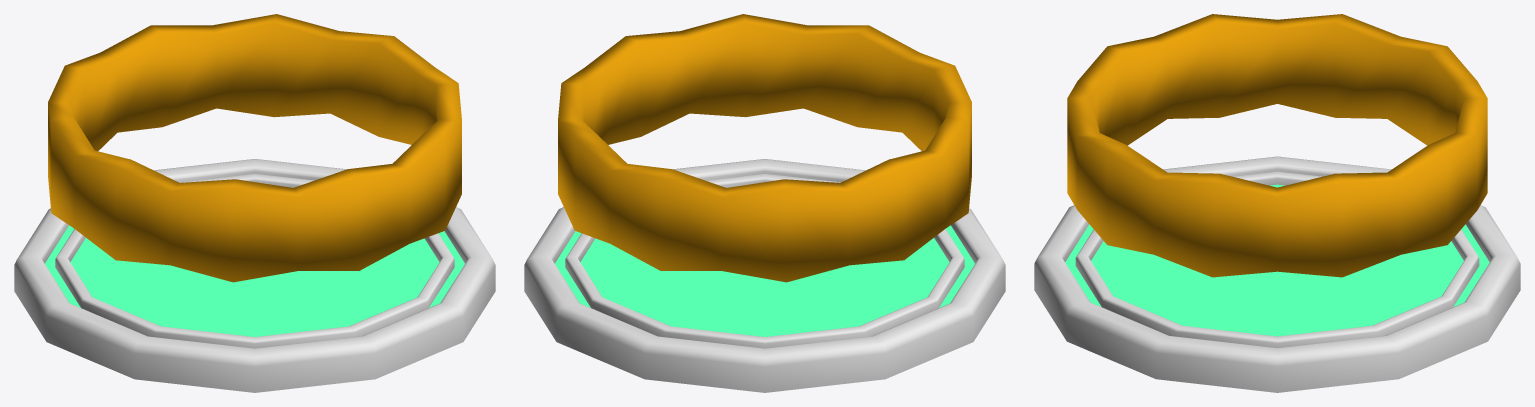
The model's file is for_node.fbx.
3 renders of one model, left to right at view 1: azimuth 30°, elevation 25°; view 2: azimuth 150°, elevation 25°; view 3: azimuth 270°, elevation 25°, orthographic.
Parts seen in each view (by area): view 1: FloatingRing, Base; view 2: FloatingRing, Base; view 3: FloatingRing, Base.
Part boxes in pixels (x1,y1,x2,y2): FloatingRing: (48,14,461,282); Base: (14,159,495,392); FloatingRing: (558,14,971,282); Base: (524,159,1005,392); FloatingRing: (1067,14,1487,277); Base: (1034,156,1520,392).
Size of the model in its own units: 435 by 189 by 435.
